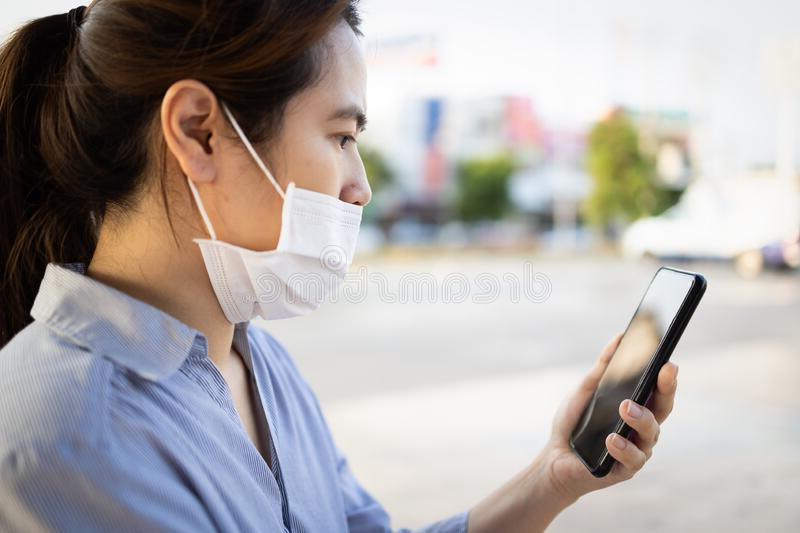mask_weared_incorrect: (210, 70, 379, 327)
